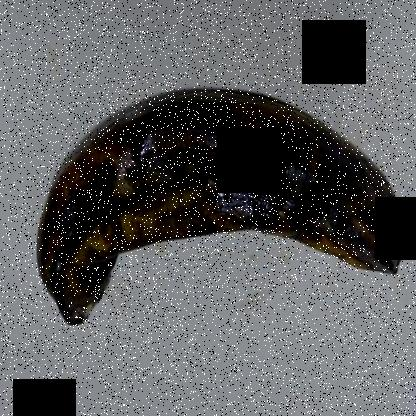rotten: (26, 73, 415, 339)
